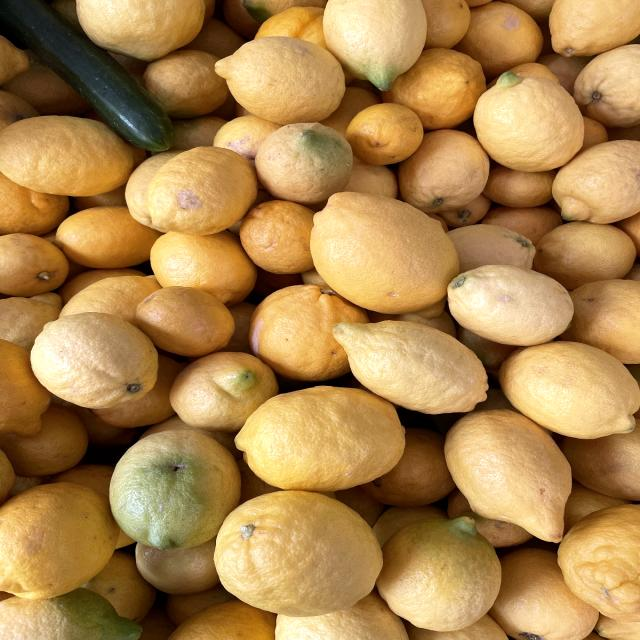lemon: (204, 479, 387, 623), (297, 180, 479, 323), (436, 405, 585, 549), (489, 333, 640, 447), (331, 316, 498, 418), (373, 508, 507, 634), (22, 303, 170, 413), (467, 64, 600, 181), (122, 132, 270, 237), (441, 254, 583, 353), (208, 30, 352, 124), (317, 0, 443, 94), (129, 278, 247, 360)
